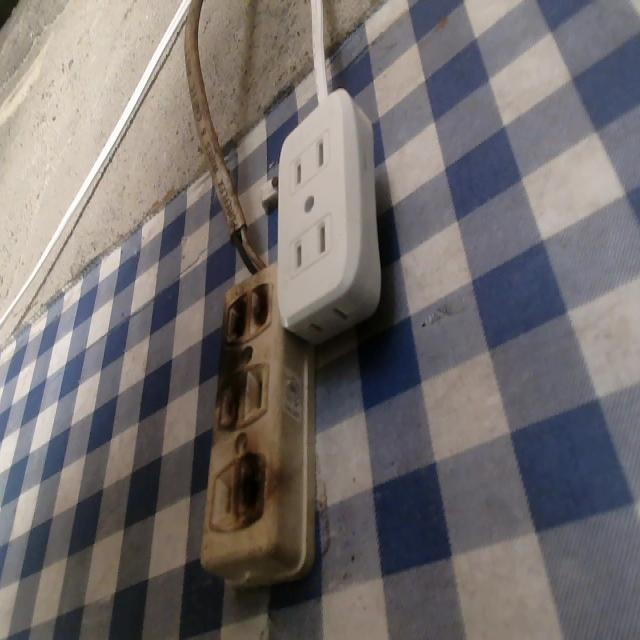-: (226, 445, 275, 536), (221, 272, 279, 348), (211, 367, 247, 433)
